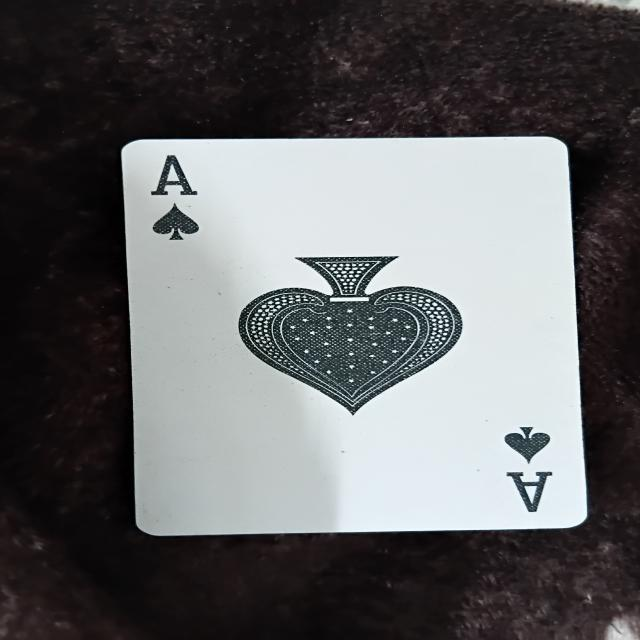AS: (120, 136, 588, 524)
